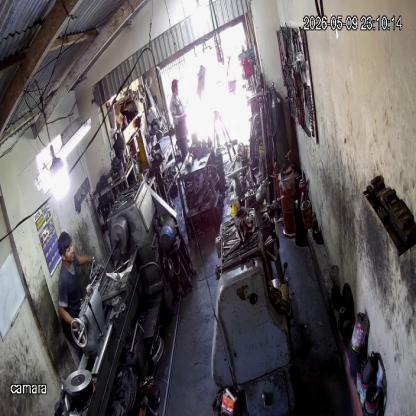sin_lentes: (63, 245, 74, 254)
